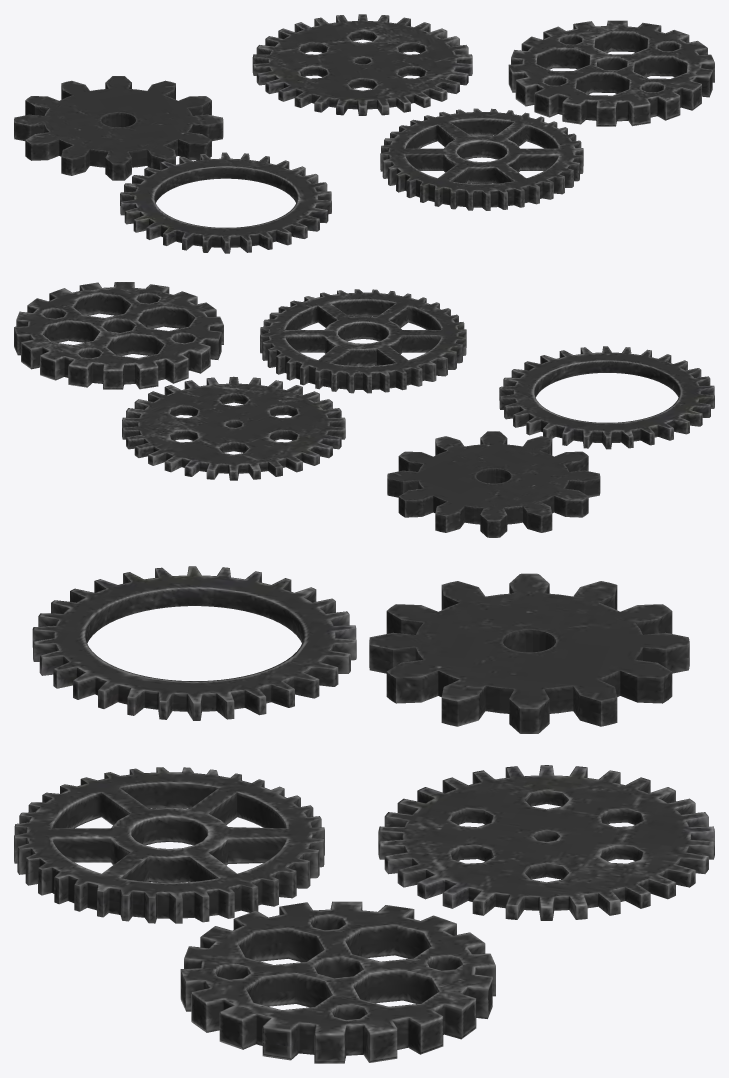
File: gears.glb
3 views of the same model, one above another, from view 1: azimuth 30°, elevation 25°; view 2: azimuth 150°, elevation 25°; view 3: azimuth 270°, elevation 25° (orthographic). The views are drawn at different scales.
Parts seen in each view (by area): view 1: gear1, gear4, gear7, gear5, gear2; view 2: gear1, gear4, gear7, gear5, gear2; view 3: gear1, gear4, gear7, gear5, gear2.
Part boxes in pixels (<box>): gear1: <box>508,20,714,126</box>; gear4: <box>252,14,472,115</box>; gear7: <box>380,108,583,210</box>; gear5: <box>14,76,223,180</box>; gear2: <box>120,152,331,253</box>; gear1: <box>14,282,223,389</box>; gear4: <box>122,376,345,480</box>; gear7: <box>260,289,466,393</box>; gear5: <box>387,431,600,537</box>; gear2: <box>499,346,714,449</box>; gear1: <box>180,901,495,1063</box>; gear4: <box>378,765,714,920</box>; gear7: <box>14,767,324,923</box>; gear5: <box>369,573,689,733</box>; gear2: <box>32,566,356,720</box>.
Size of the model in its own units: 2 by 0.081 by 1.29.
5 materials, 5 textured.
